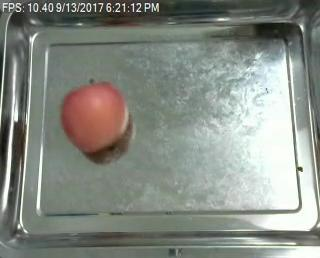apple: (59, 79, 128, 153)
